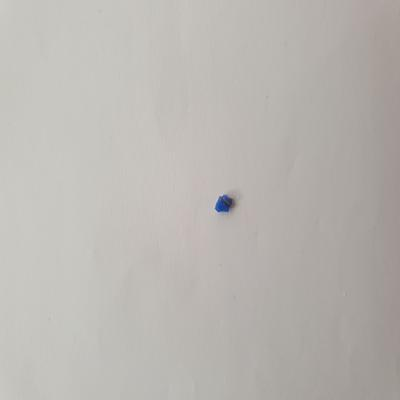plastic: (213, 192, 238, 216)
